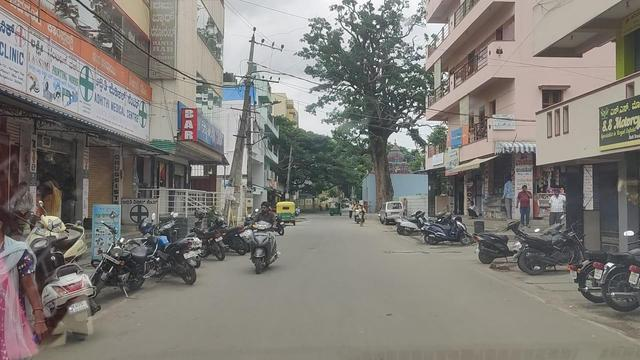LMV: (254, 201, 276, 276)
RoadDamages: (387, 247, 428, 257)
